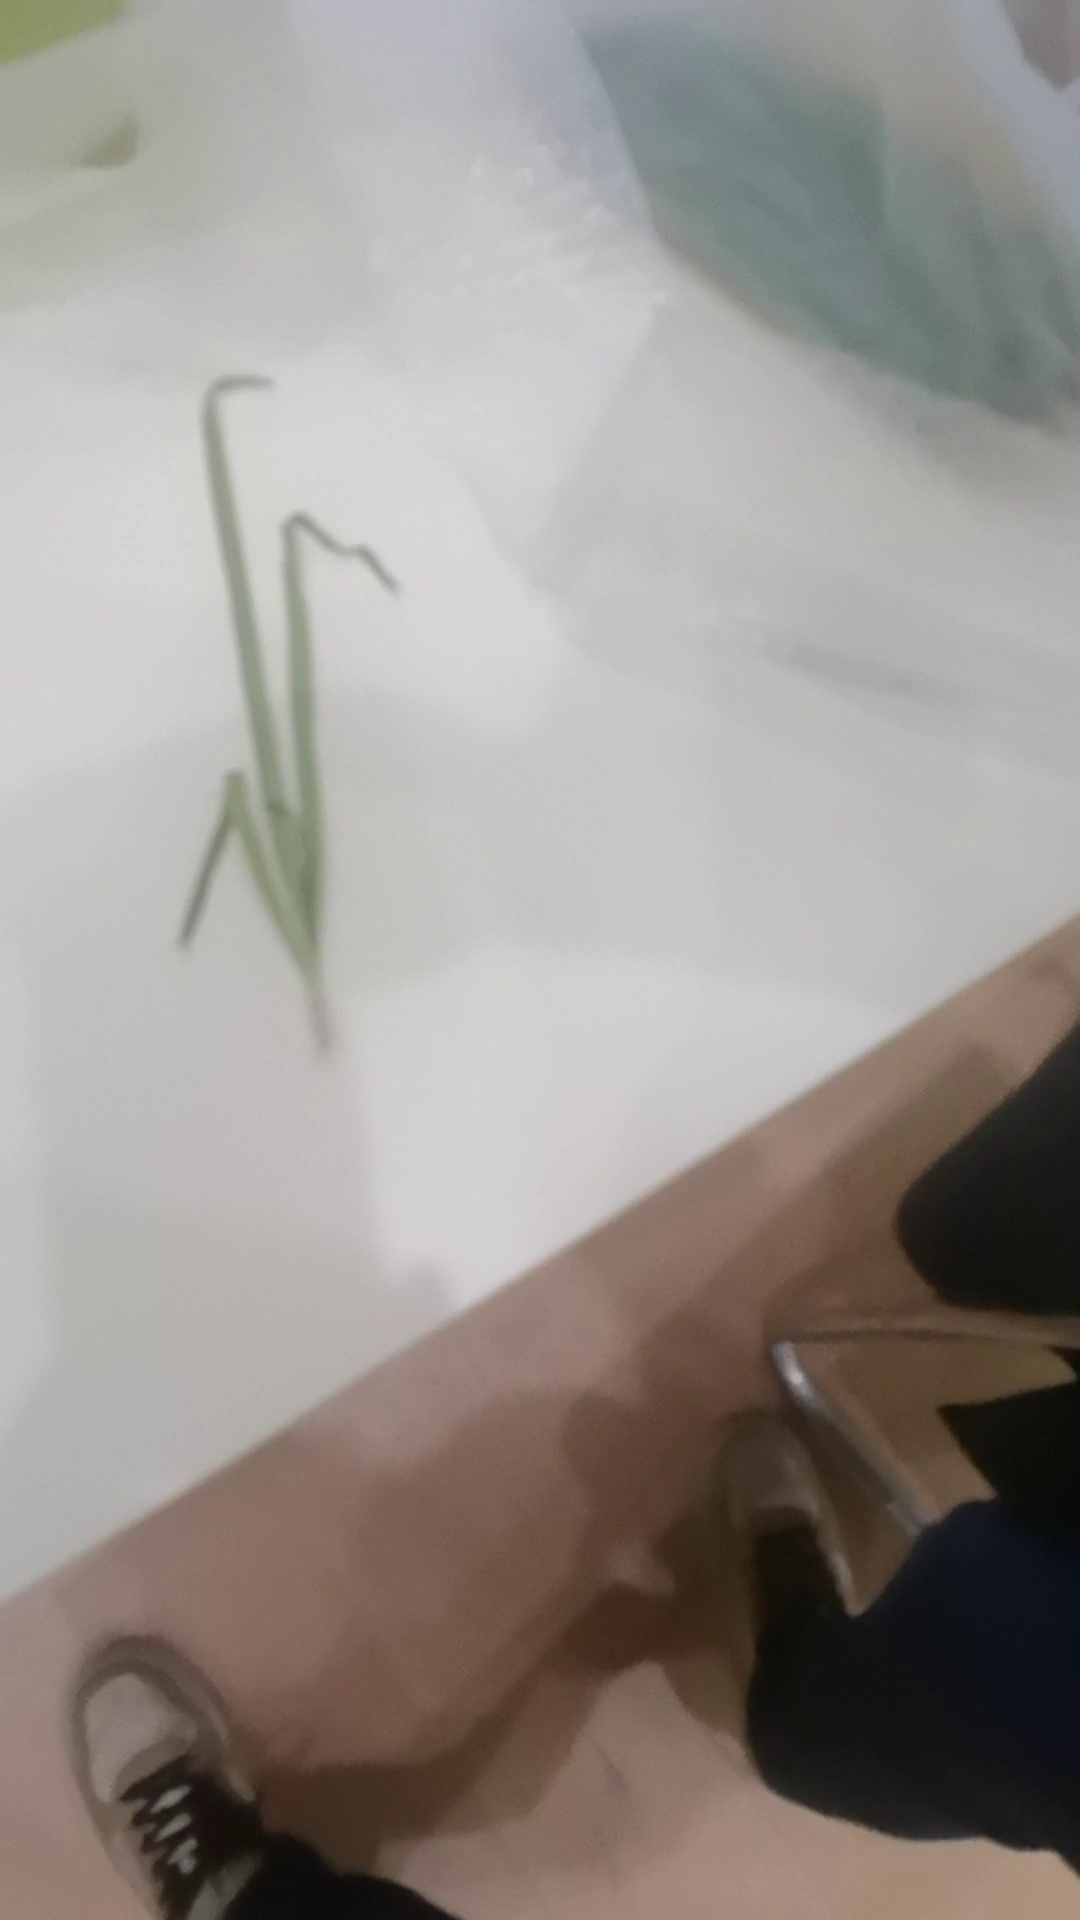chives: (160, 357, 404, 1069)
